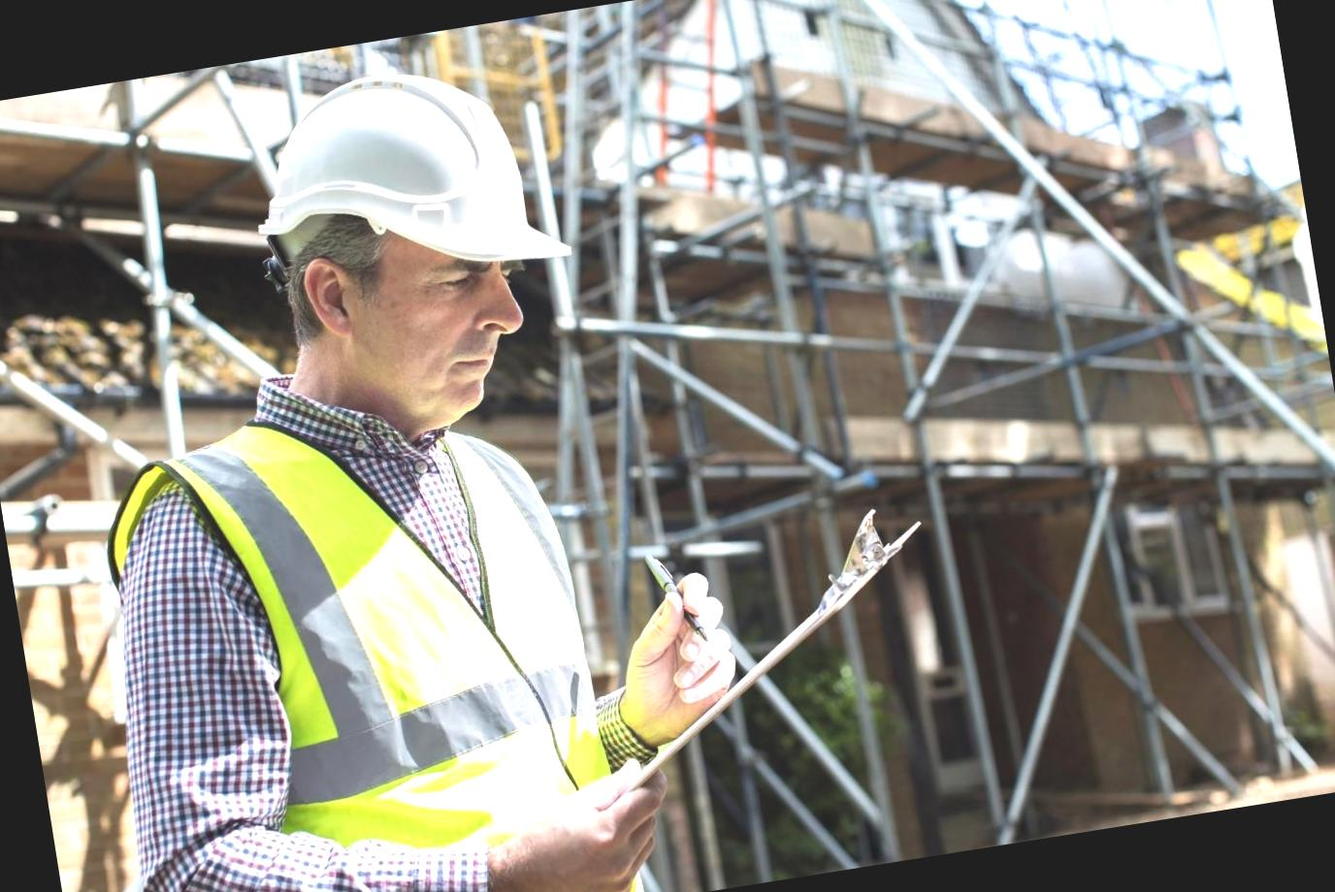helmet: (222, 39, 579, 316)
person: (6, 51, 715, 892)
